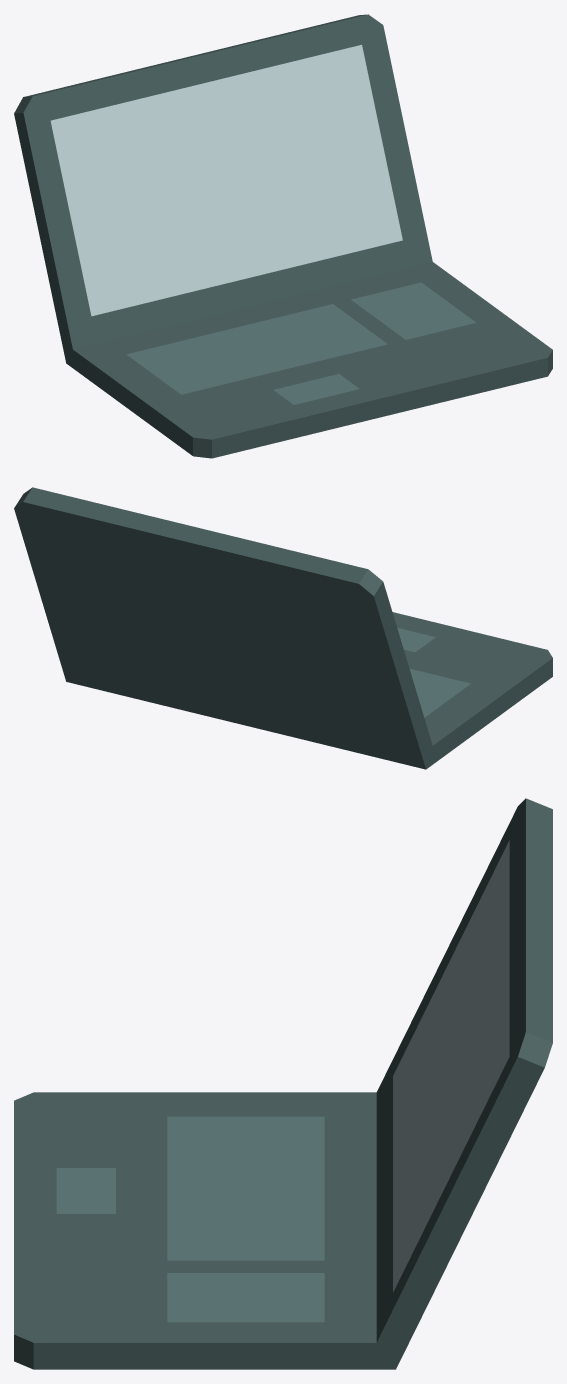
File: laptop.glb
3 views of the same model, one above another, from view 1: azimuth 30°, elevation 25°; view 2: azimuth 150°, elevation 25°; view 3: azimuth 270°, elevation 25° (orthographic). The views are drawn at different scales.
Visible parts, largest first — view 1: laptop; view 2: laptop; view 3: laptop.
Part boxes in pixels (x1,y1,x2,y2): laptop: [14, 14, 552, 458]; laptop: [14, 487, 552, 769]; laptop: [14, 798, 552, 1369].
Bounding box in the file's own units: 0.4774 × 0.2926 × 0.4341.
